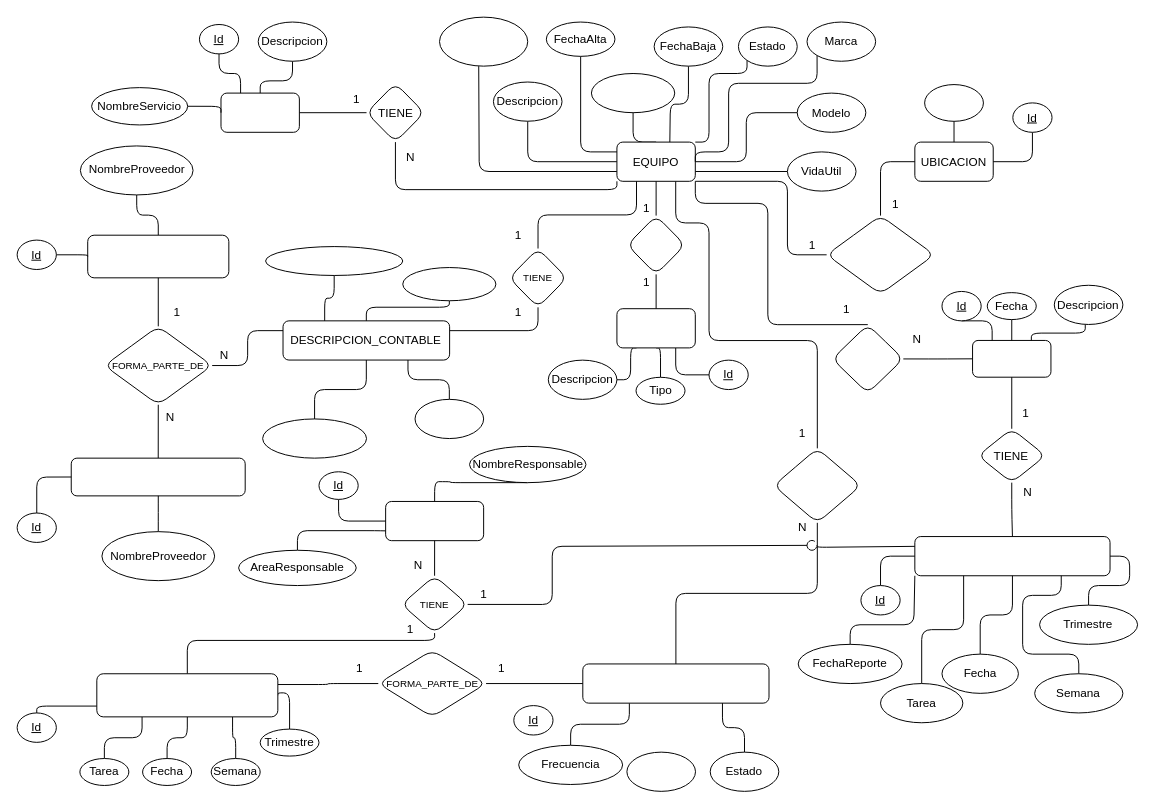
This 1155x809 diagram has some shape labels left out. Each missing label, with the box of its shape:
CodigoEquipo: (590, 73, 675, 113)
CRONOGRAMA_PREVENTIVO: (582, 663, 769, 703)
Dias: (626, 751, 696, 791)
ES_DE: (626, 215, 685, 274)
FALLA: (972, 339, 1051, 377)
INTERVENCION_CORRECTIVA: (914, 536, 1110, 576)
INTERVENCION_PREVENTIVA: (96, 673, 278, 717)
Lugar: (924, 84, 983, 121)
NumeroDeSerie: (439, 16, 528, 66)
NumeroFactura: (402, 267, 496, 301)
NumeroRemito: (262, 418, 367, 458)
PROVEEDOR_DE_COMPRA: (87, 234, 229, 278)
PROVEEDOR_DE_MANTENIMIENTO: (70, 457, 245, 496)
RESPONSABLE: (385, 500, 484, 541)
ResponsableDeCompra: (265, 246, 403, 275)
RIESGO: (616, 308, 695, 348)
SE_ENCUENTRA_EN: (826, 215, 934, 294)
SERVICIO: (220, 92, 299, 132)
SUFRE_UNA: (831, 324, 903, 393)
TIENE_UN: (773, 447, 861, 523)
Valor: (414, 398, 484, 439)
